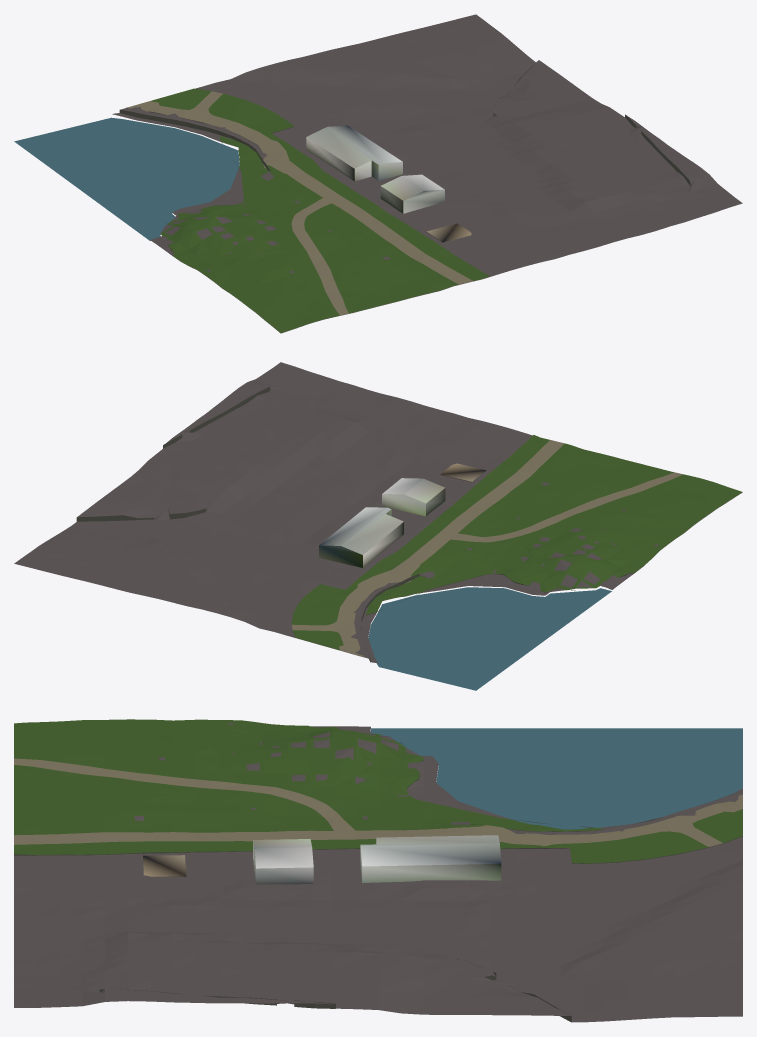
3 views of the same model, one above another, from view 1: azimuth 30°, elevation 25°; view 2: azimuth 150°, elevation 25°; view 3: azimuth 270°, elevation 25° (orthographic). The views are drawn at different scales.
Visible parts, largest first — view 1: c_m16_p00; view 2: c_m16_p00; view 3: c_m16_p00.
Boxes of the visible parts, bbox=[...] form: c_m16_p00: bbox=[14, 14, 742, 333]; c_m16_p00: bbox=[14, 362, 742, 690]; c_m16_p00: bbox=[14, 719, 742, 1022].
Bounding box in the file's own units: 128 × 6.81 × 128.
